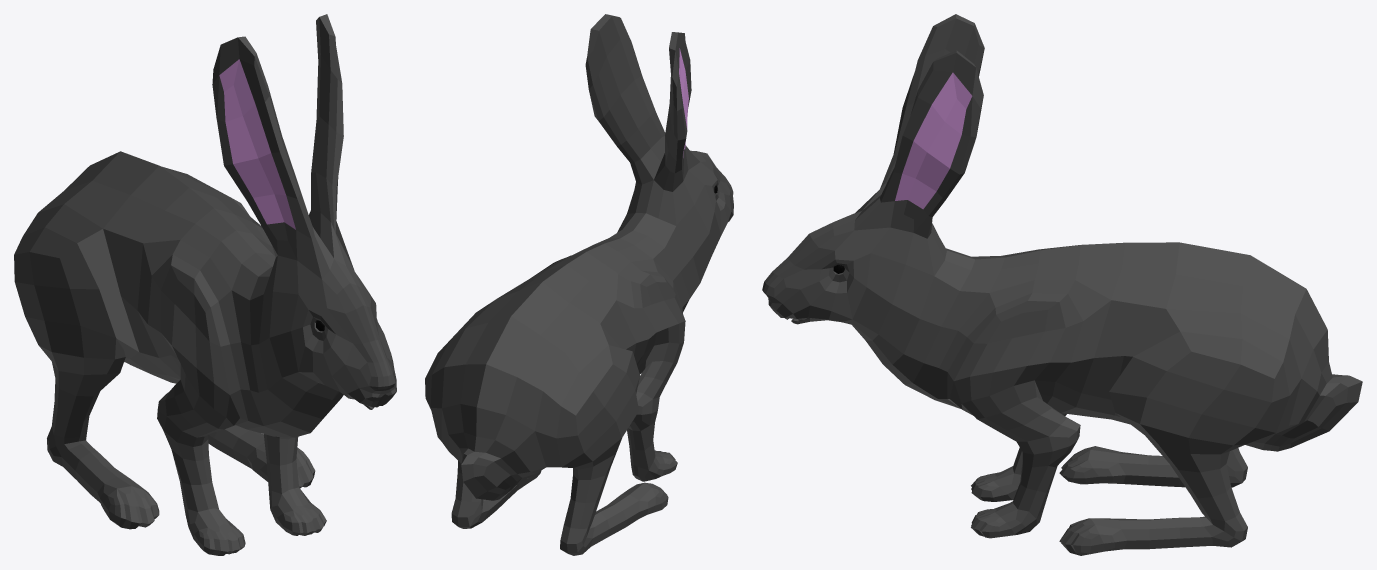
File: bunny.FBX
3 renders of one model, left to right at view 1: azimuth 30°, elevation 25°; view 2: azimuth 150°, elevation 25°; view 3: azimuth 270°, elevation 25°, orthographic. The views are drawn at different scales.
Visible parts, largest first — view 1: bunny; view 2: bunny; view 3: bunny.
Part boxes in pixels (x1,y1,x2,y2): bunny: (14,14,396,555); bunny: (425,14,733,555); bunny: (762,14,1362,555).
Size of the model in its own units: 8.18 by 20.17 by 22.72.
